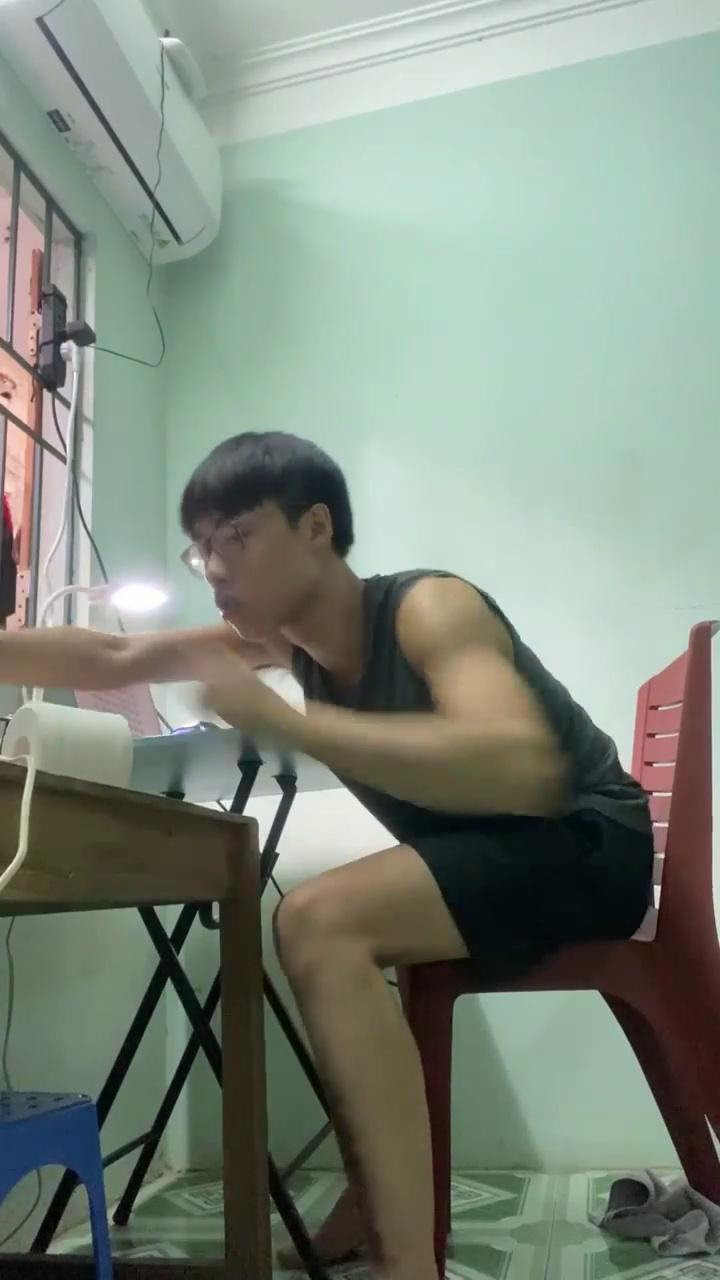BadPosture: (0, 431, 653, 1279)
